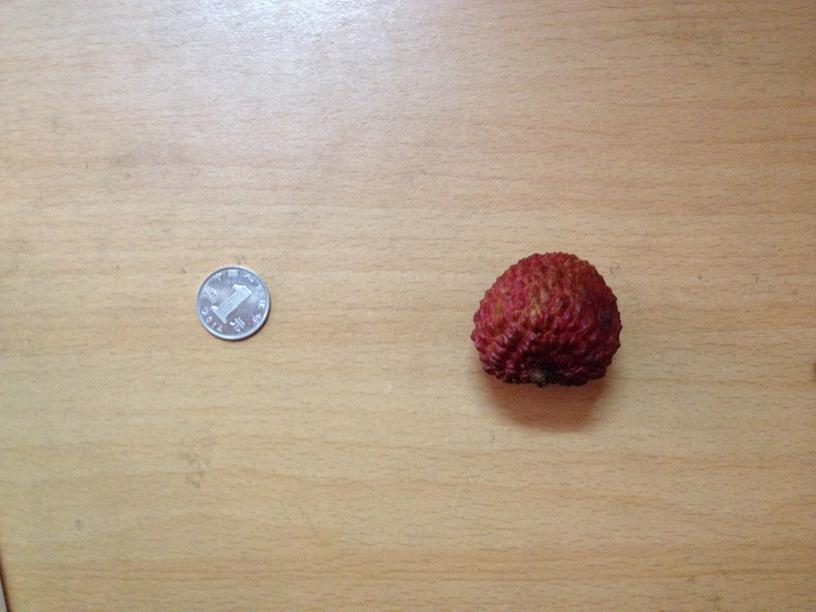coin: (195, 265, 272, 341)
litchi: (469, 246, 621, 386)
